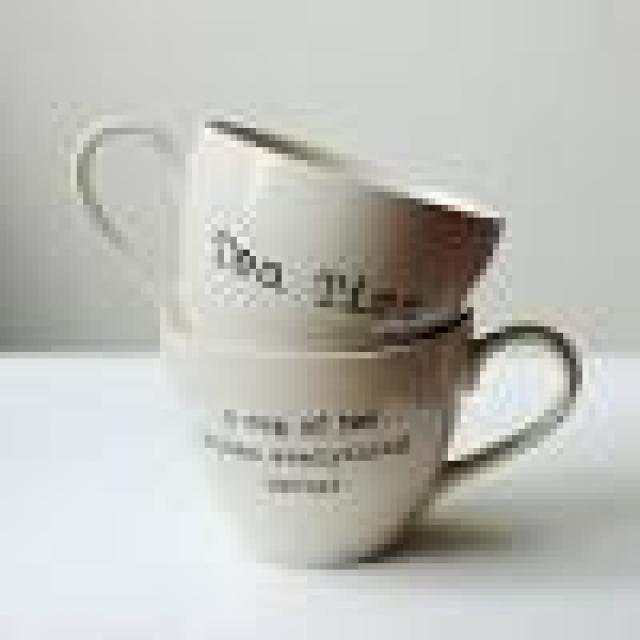taza: (161, 321, 584, 562), (61, 96, 506, 322)
